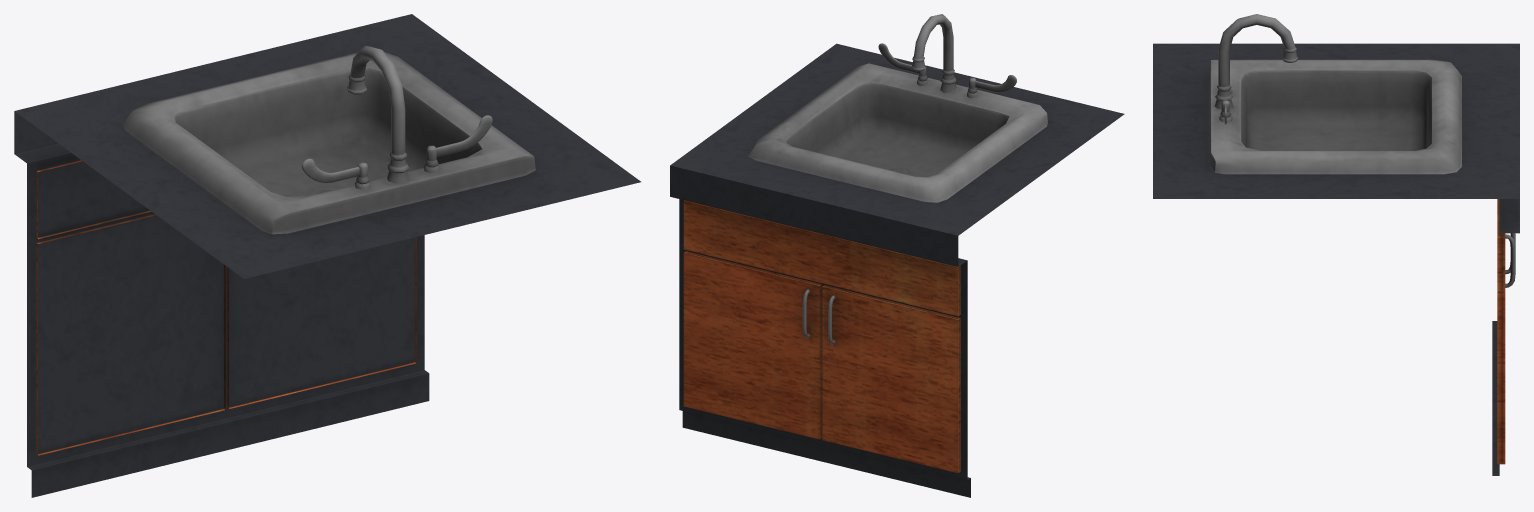
Rendered from CounterSink.fbx.
3 renders of one model, left to right at view 1: azimuth 30°, elevation 25°; view 2: azimuth 150°, elevation 25°; view 3: azimuth 270°, elevation 25°, orthographic. The views are drawn at different scales.
Visible parts, largest first — view 1: CounterSink; view 2: CounterSink; view 3: CounterSink.
Boxes of the visible parts, <box> form: CounterSink: <box>14,14,640,497</box>; CounterSink: <box>670,14,1124,497</box>; CounterSink: <box>1153,14,1519,475</box>.
Bounding box in the file's own units: 152 × 186 × 152.
